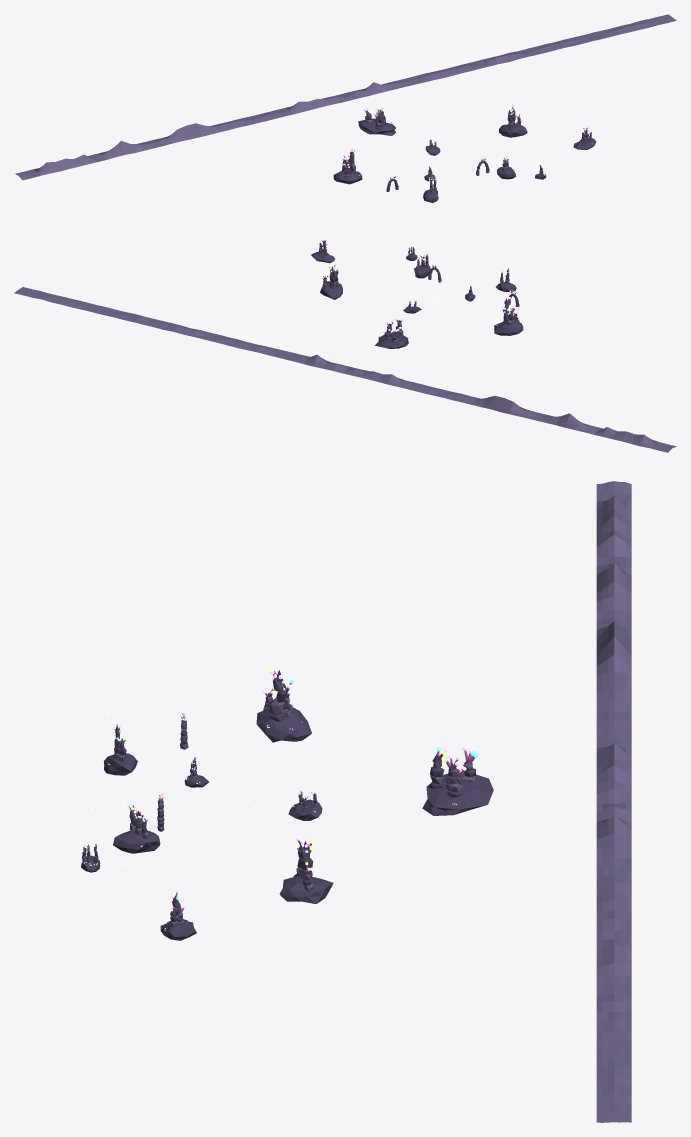
File: stage2-scenery.glb
The picture shows the model from 3 angles, top to bottom: view 1: azimuth 30°, elevation 25°; view 2: azimuth 150°, elevation 25°; view 3: azimuth 270°, elevation 25°; orthographic projection. The views are drawn at different scales.
Visible parts, largest first — view 1: CoralIslands_Mesh; view 2: CoralIslands_Mesh; view 3: CoralIslands_Mesh.
Boxes of the visible parts, x1,y1,x2,y2 form: CoralIslands_Mesh: (15, 14, 676, 202); CoralIslands_Mesh: (14, 239, 676, 452); CoralIslands_Mesh: (81, 481, 631, 1122).
Size of the model in its own units: 2600 by 134 by 985.
